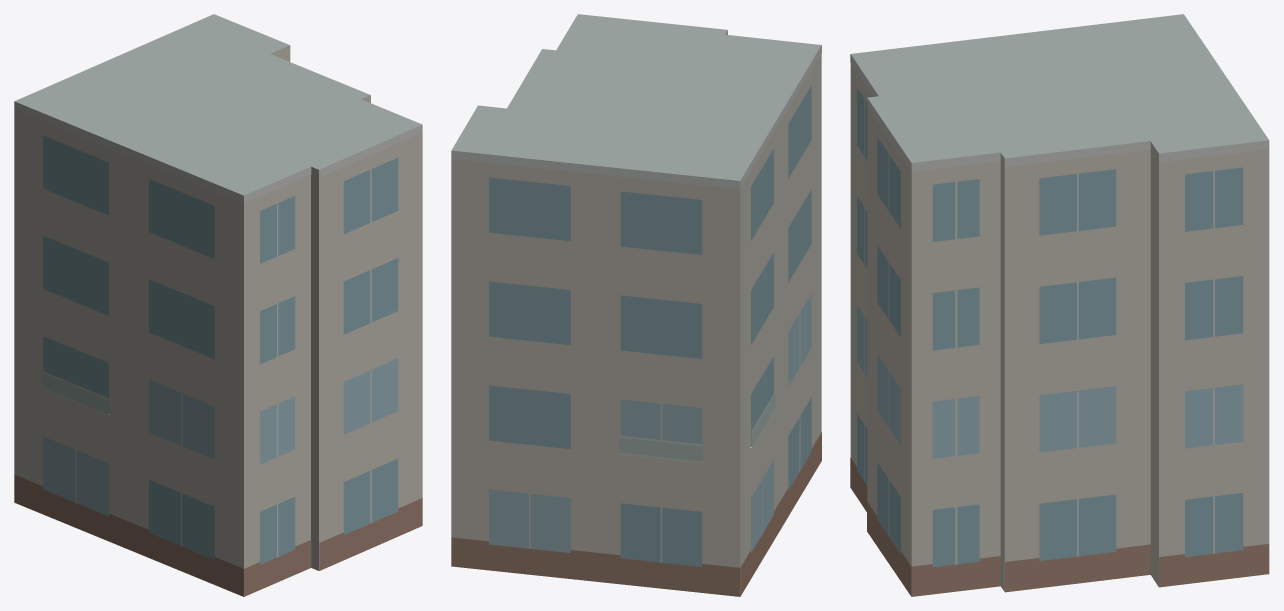
Rendered from survey-upis-32613355.glb.
3 renders of one model, left to right at view 1: azimuth 30°, elevation 25°; view 2: azimuth 150°, elevation 25°; view 3: azimuth 270°, elevation 25°, orthographic. The views are drawn at different scales.
Parts seen in each view (by area): view 1: survey-upis-32613355.tmp; view 2: survey-upis-32613355.tmp; view 3: survey-upis-32613355.tmp.
Boxes of the visible parts, x1,y1,x2,y2 form: survey-upis-32613355.tmp: [14, 14, 422, 596]; survey-upis-32613355.tmp: [451, 14, 821, 596]; survey-upis-32613355.tmp: [850, 14, 1269, 596].
Bounding box in the file's own units: 9 × 12.2 × 10.68.
